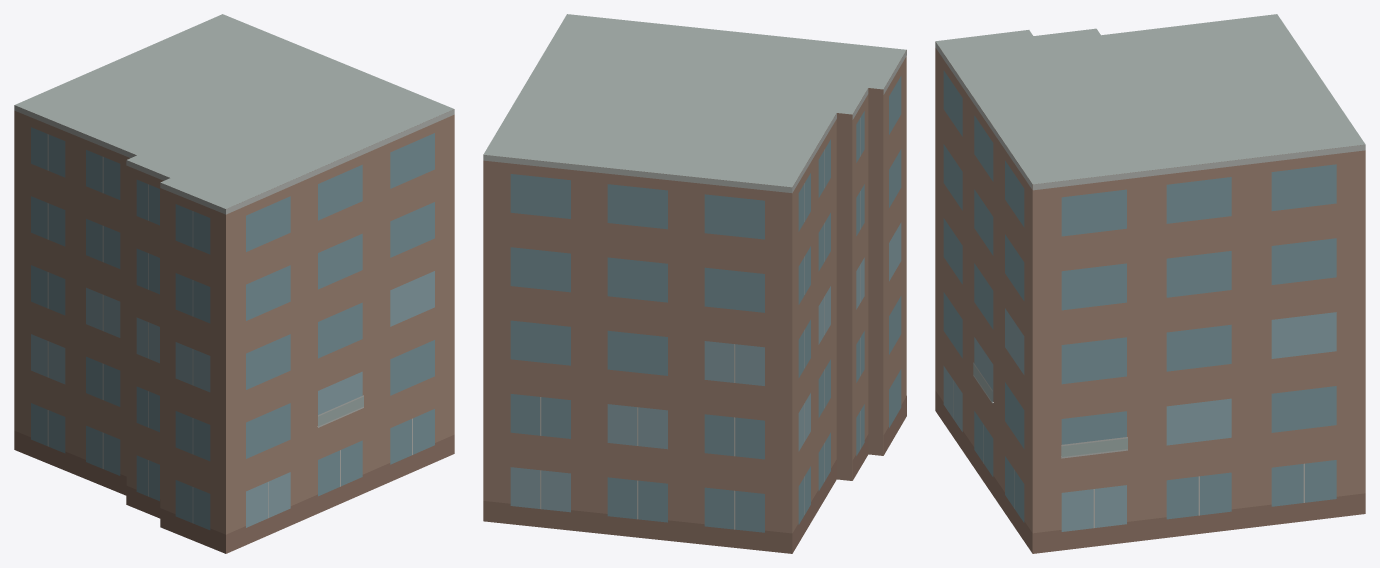
Rendered from survey-upis-32907366.glb.
3 views of the same model, side by side, from view 1: azimuth 30°, elevation 25°; view 2: azimuth 150°, elevation 25°; view 3: azimuth 270°, elevation 25° (orthographic). The views are drawn at different scales.
Visible parts, largest first — view 1: survey-upis-32907366.tmp; view 2: survey-upis-32907366.tmp; view 3: survey-upis-32907366.tmp.
Boxes of the visible parts, x1=… form: survey-upis-32907366.tmp: x1=14, y1=14, x2=454, y2=553; survey-upis-32907366.tmp: x1=483, y1=14, x2=906, y2=553; survey-upis-32907366.tmp: x1=935, y1=14, x2=1365, y2=553.
Size of the model in its own units: 15.1 by 15.25 by 16.11.
